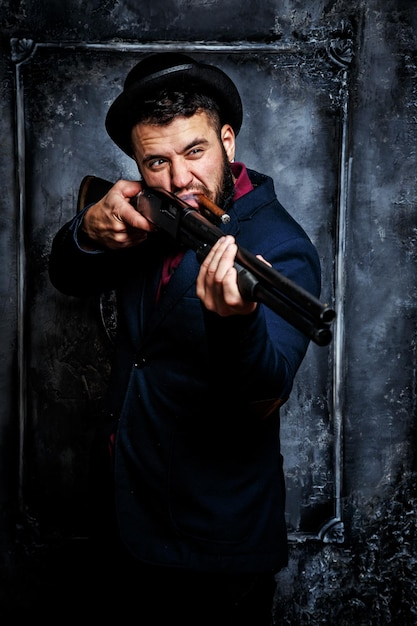cigarette: (191, 195, 232, 223)
gun: (78, 173, 332, 349)
